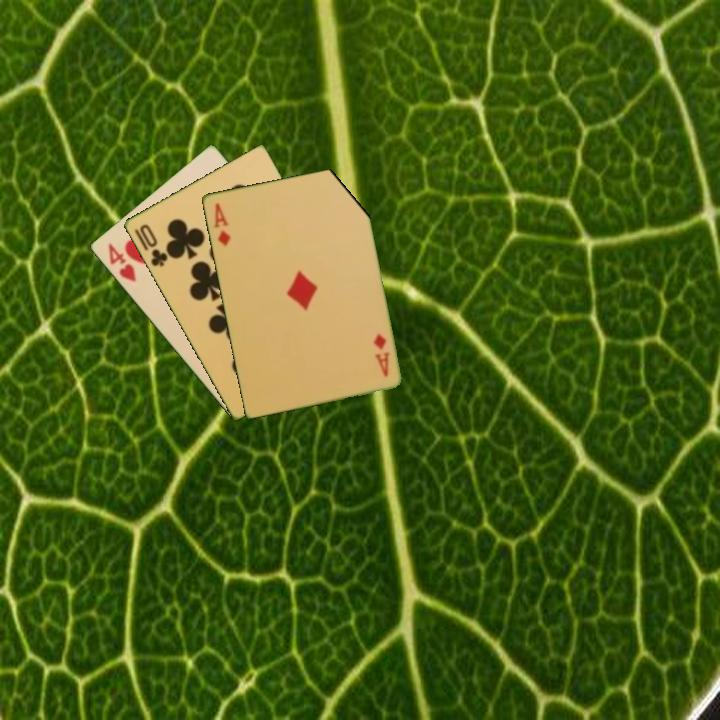10c: (136, 220, 170, 270)
4h: (104, 240, 139, 285)
Ad: (210, 199, 233, 249), (369, 330, 392, 379)
